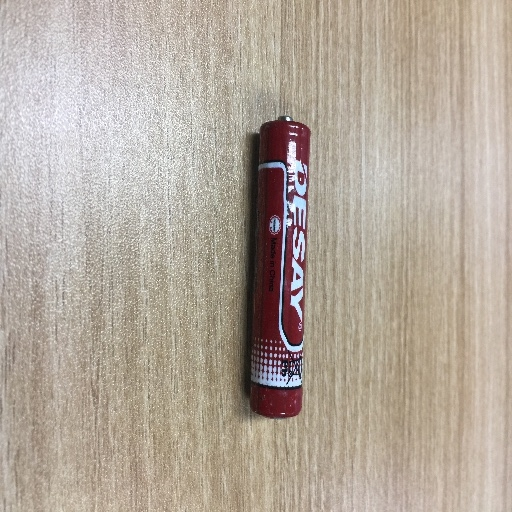Battery_0: (221, 101, 330, 436)
